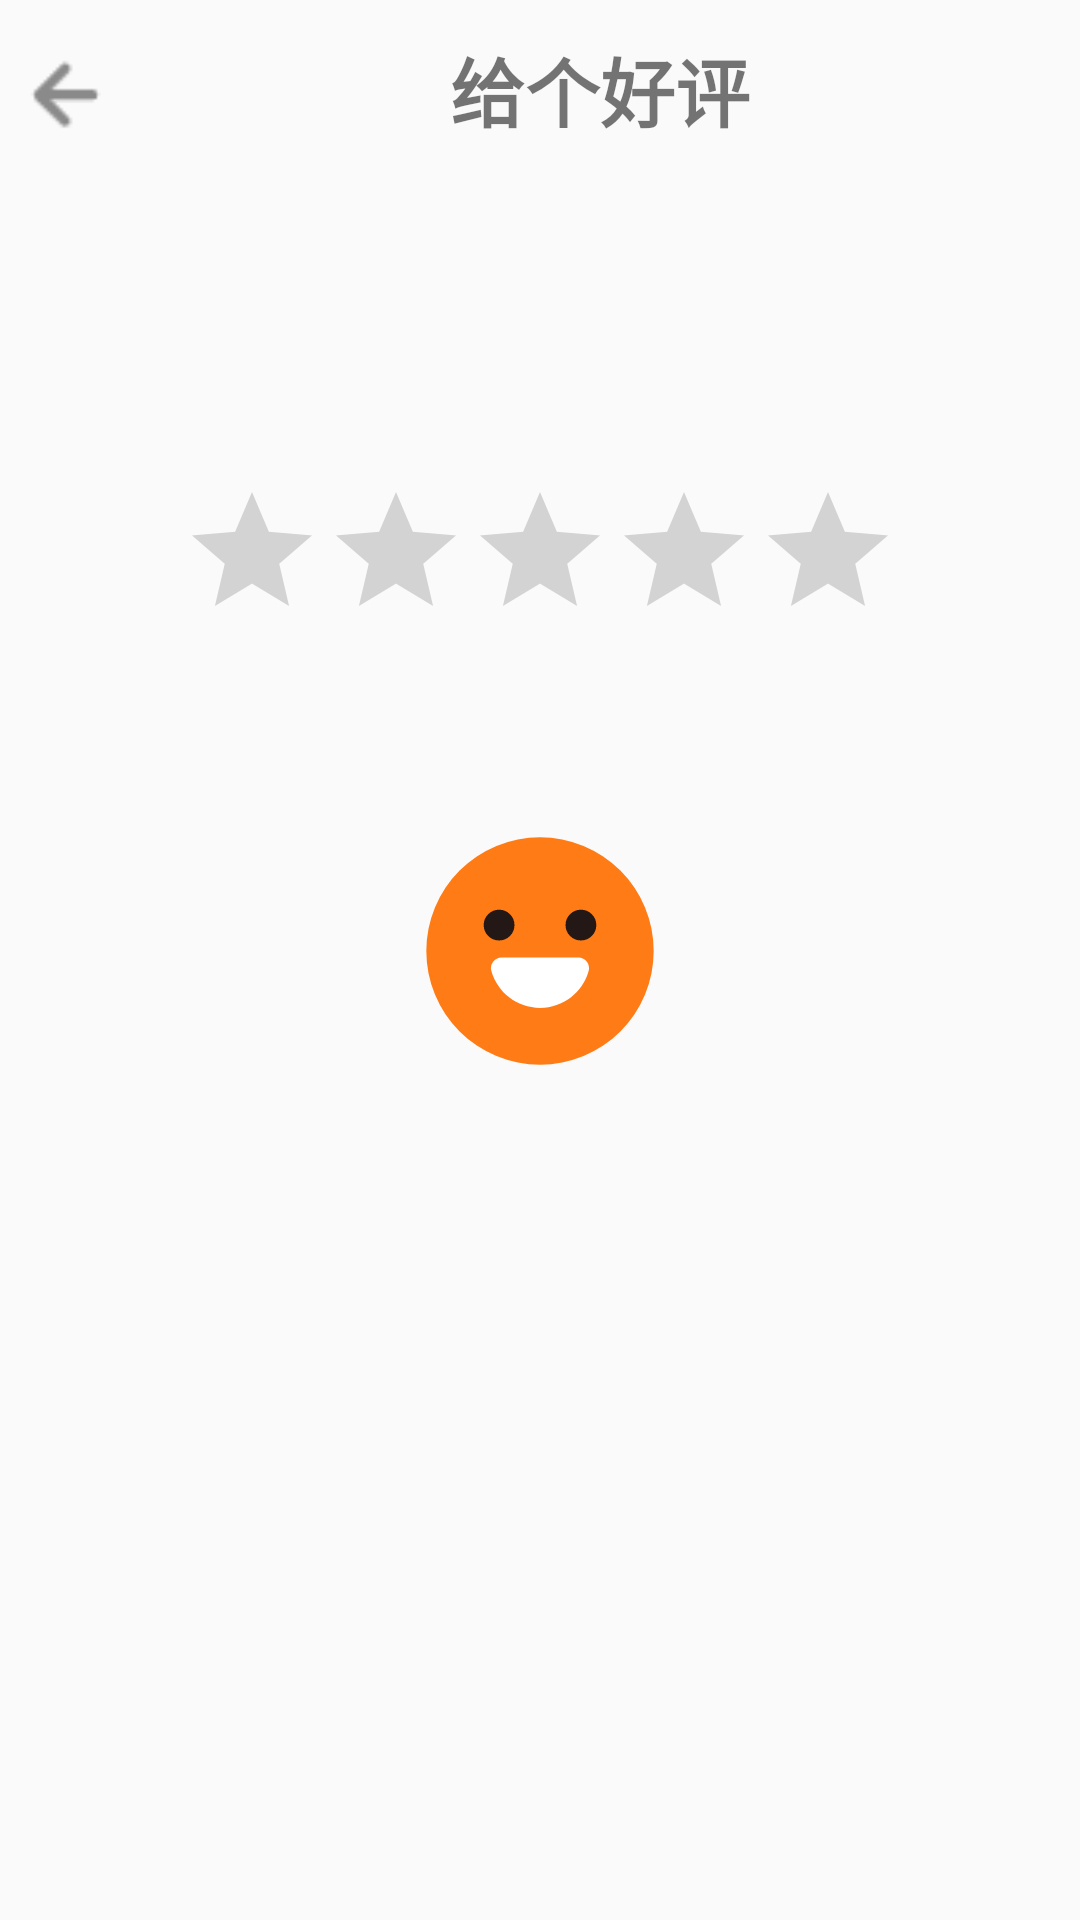

Icons on this 1080px x 1920px Android screen, each with its box as (x1, y1, x2, y2):
back: (33, 62, 98, 128)
smile: (426, 837, 654, 1065)
